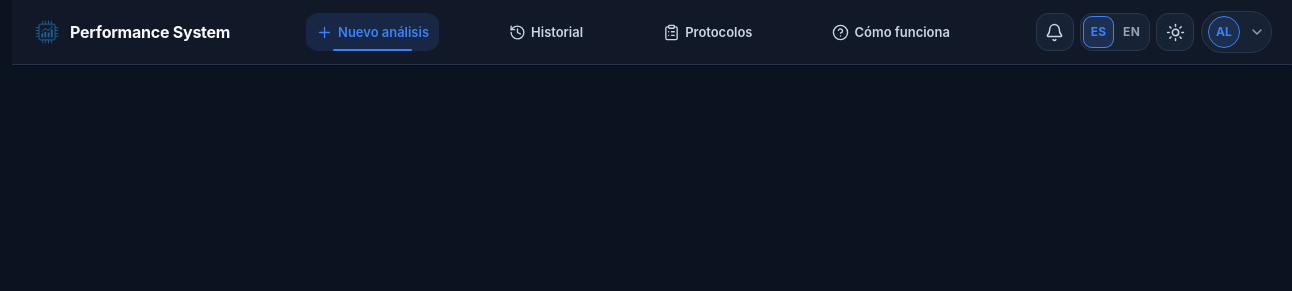
Test case: Navbar primary modules › profile uses React Router and closes the user menu
The width and height of the screenshot is (1292, 291).
What coordinates should you click on to do the following:
click the button named "Ada Lovelace"
I would click on:
 (1236, 32)
Its box is top-left (1201, 11), bottom-right (1272, 53).
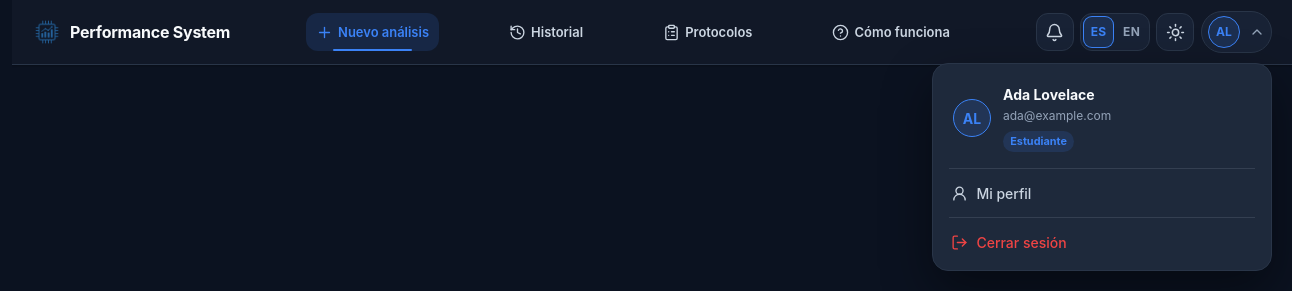
What coordinates should you click on to do the following:
click the menu item "Mi perfil"
I would click on:
 (991, 193)
Its box is top-left (951, 185), bottom-right (1031, 202).
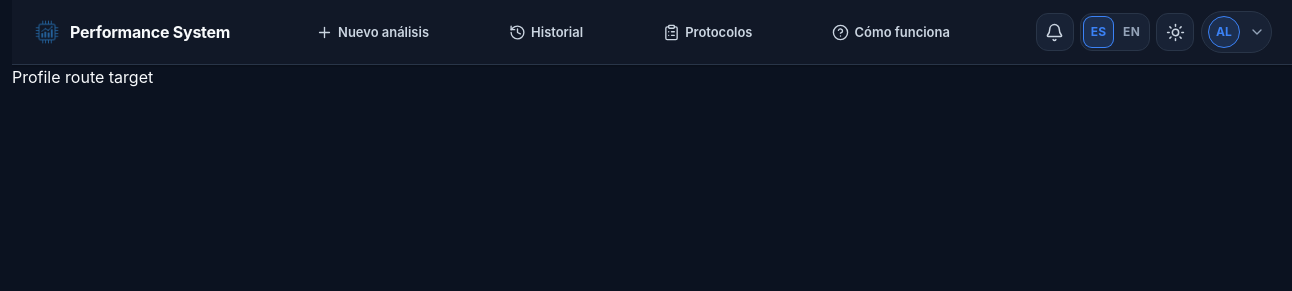
Result: the text "Profile route target" is shown at top-left (12, 67), bottom-right (153, 87)
Result: the menu is gone
